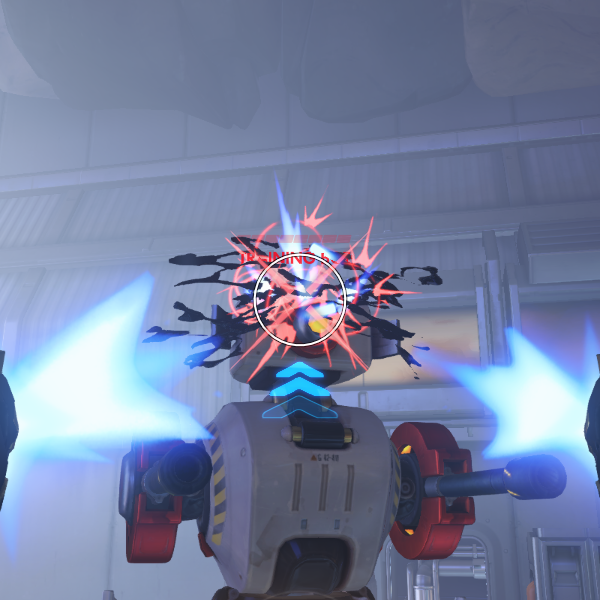hpbar: (236, 234, 352, 244)
